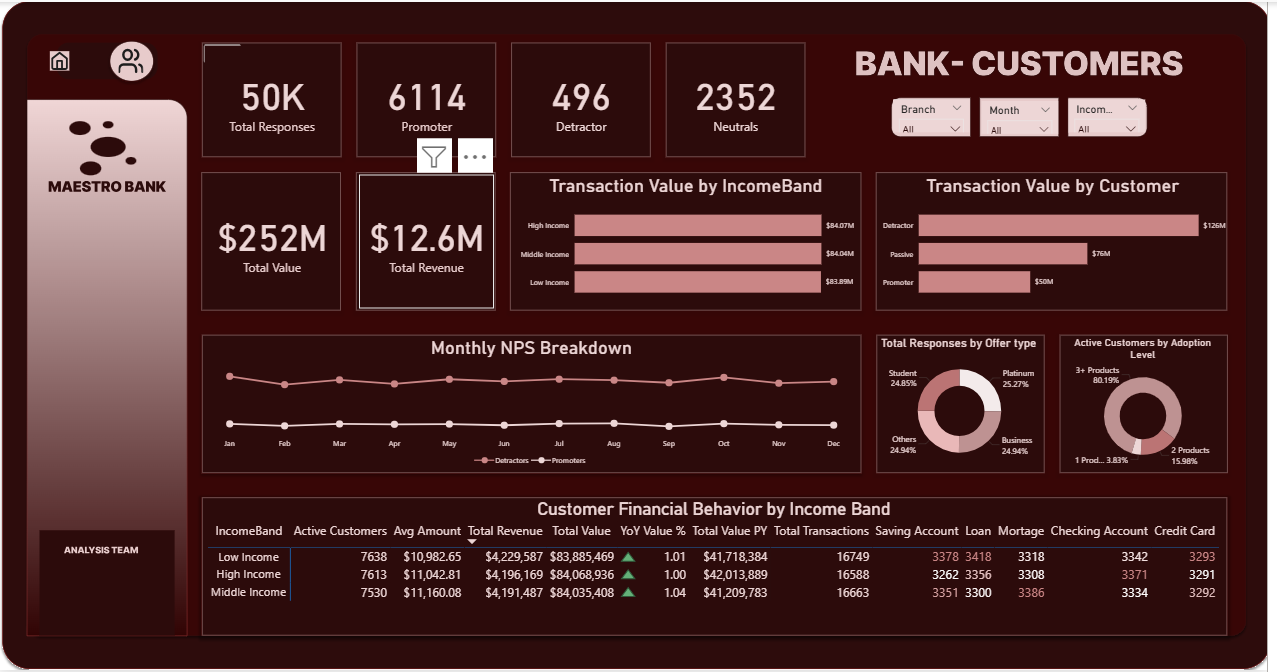

Layout of this report page (visuals, bound fields, positions):
{"tool":"powerbi","page":{"name":"Page 2","canvas":[2083,1097],"ordinal":1},"visuals":[{"type":"card","fields":{"Values":["DateTable.Total Responses"]},"box":[337.6,71.5,221.8,179.9],"z":0},{"type":"card","fields":{"Values":["Customer_NPS.Promoters"]},"box":[591.4,71.5,221.8,179.9],"z":1000},{"type":"card","fields":{"Values":["Customer_NPS.Detractors"]},"box":[845.2,71.5,221.8,179.9],"z":2000},{"type":"card","fields":{"Values":["Customer_NPS.Neutrals"]},"box":[1099,71.5,221.8,179.9],"z":3000},{"type":"card","fields":{"Values":["DateTable.Total Value"]},"box":[337.6,283.4,221.8,219.3],"z":4000},{"type":"card","fields":{"Values":["DateTable.Total Revenue"]},"box":[591.4,283.4,221.8,219.3],"z":5000},{"type":"lineChart","title":"Monthly NPS Breakdown","fields":{"Category":["DateTable.Month Names"],"Y":["banking_transactions_large.Detractorss","banking_transactions_large.Promoters"]},"box":[337.6,549.5,1074.4,221.8],"z":6000},{"type":"clusteredBarChart","title":"Transaction Value by IncomeBand","fields":{"Category":["banking_transactions_large.IncomeBand"],"Y":["DateTable.Total Value"]},"box":[845.2,283.4,566.8,219.3],"z":7000},{"type":"clusteredBarChart","title":"Transaction Value by Customer","fields":{"Category":["banking_transactions_large.NPSCategory"],"Y":["DateTable.Total Value"]},"box":[1441.5,283.4,579.1,219.3],"z":8000},{"type":"donutChart","title":"Total Responses by Offer type","fields":{"Category":["banking_transactions_large.OfferType"],"Y":["DateTable.Total Responses"]},"box":[1444,549.5,267,221.8],"z":9000},{"type":"donutChart","title":"Active Customers by Adoption Level ","fields":{"Y":["DateTable.Active Customers"],"Category":["Customer_NPS.Adoption Level"]},"box":[1747.1,549.5,263.7,221.8],"z":10000},{"type":"pivotTable","title":"Customer Financial Behavior by Income Band ","fields":{"Values":["DateTable.Active Customers","Customer_NPS.Avg Amount","DateTable.Total Revenue","DateTable.Total Value","DateTable.YoY Value %","DateTable.Total Value PY","DateTable.Total Transactions","Customer_NPS.Deposit","Customer_NPS.Loan","Customer_NPS.Mortage","Customer_NPS.Checking Account","Customer_NPS.Credit Card"],"Rows":["banking_transactions_large.IncomeBand"]},"box":[337.6,815.6,1673.1,226.7],"z":11000},{"type":"slicer","fields":{"Values":["banking_transactions_large.Branch"]},"box":[1468.6,160.2,125.7,54.2],"z":12000},{"type":"slicer","fields":{"Values":["DateTable.Month"]},"box":[1614,162.6,125.7,54.2],"z":13000},{"type":"slicer","fields":{"Values":["banking_transactions_large.IncomeBand"]},"box":[1756.9,160.2,125.7,54.2],"z":14000},{"type":"pageNavigator","box":[76.4,78.9,179.9,37],"z":15000}]}

Visuals, with their boxes in screenshot pixels (x1, y1, x2, y2), scaled from the page's 2083x1097 canvas onto the 1277x672 screenshot:
card - DateTable.Total Responses: (207,44,343,154)
card - Customer_NPS.Promoters: (363,44,499,154)
card - Customer_NPS.Detractors: (518,44,654,154)
card - Customer_NPS.Neutrals: (674,44,810,154)
card - DateTable.Total Value: (207,174,343,308)
card - DateTable.Total Revenue: (363,174,499,308)
"Monthly NPS Breakdown" lineChart: (207,337,866,472)
"Transaction Value by IncomeBand" clusteredBarChart: (518,174,866,308)
"Transaction Value by Customer" clusteredBarChart: (884,174,1239,308)
"Total Responses by Offer type" donutChart: (885,337,1049,472)
"Active Customers by Adoption Level " donutChart: (1071,337,1233,472)
"Customer Financial Behavior by Income Band " pivotTable: (207,500,1233,638)
slicer - banking_transactions_large.Branch: (900,98,977,131)
slicer - DateTable.Month: (989,100,1067,133)
slicer - banking_transactions_large.IncomeBand: (1077,98,1154,131)
pageNavigator: (47,48,157,71)
